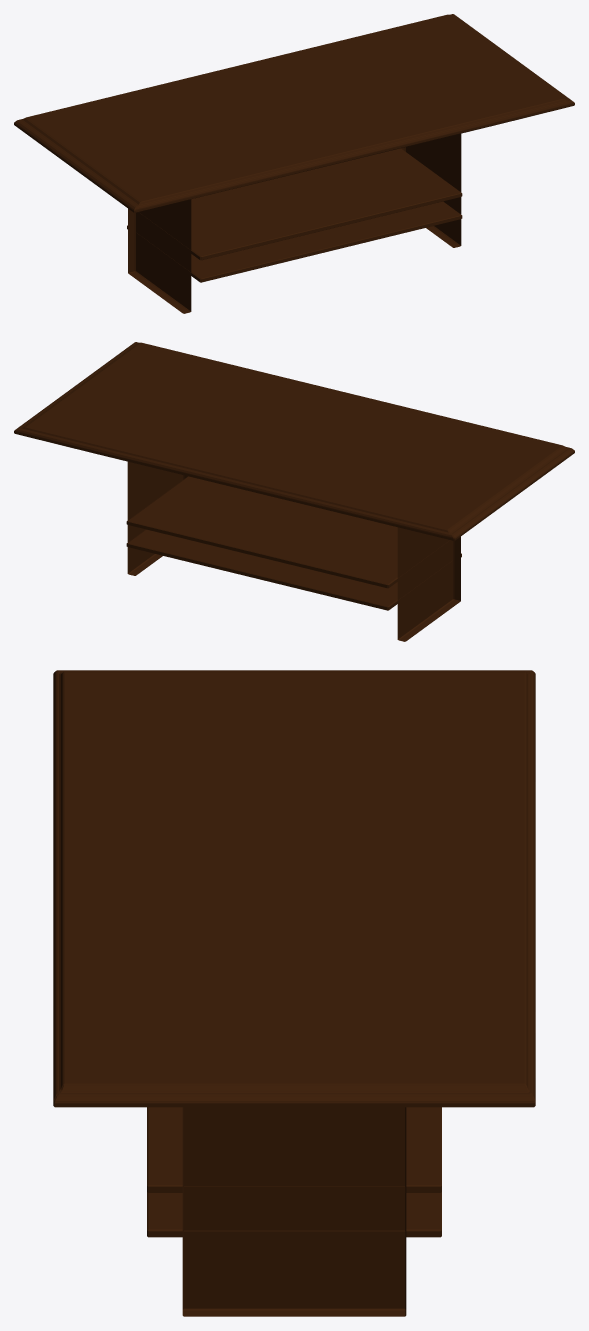
Rendered from Model_Kitchen_Table.fbx.
3 renders of one model, top to bottom at view 1: azimuth 30°, elevation 25°; view 2: azimuth 150°, elevation 25°; view 3: azimuth 270°, elevation 25°, orthographic. The views are drawn at different scales.
Parts seen in each view (by area): view 1: coffee table; view 2: coffee table; view 3: coffee table.
Part boxes in pixels (bbox=[...]): coffee table: bbox=[14, 14, 574, 313]; coffee table: bbox=[14, 342, 574, 641]; coffee table: bbox=[53, 670, 535, 1316].
Size of the model in its own units: 110 by 36.08 by 51.88.
